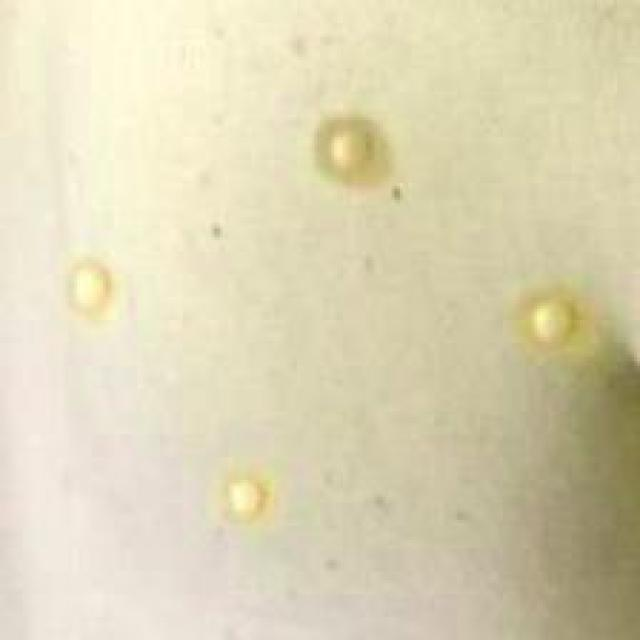monkeypox: (30, 85, 610, 632)
